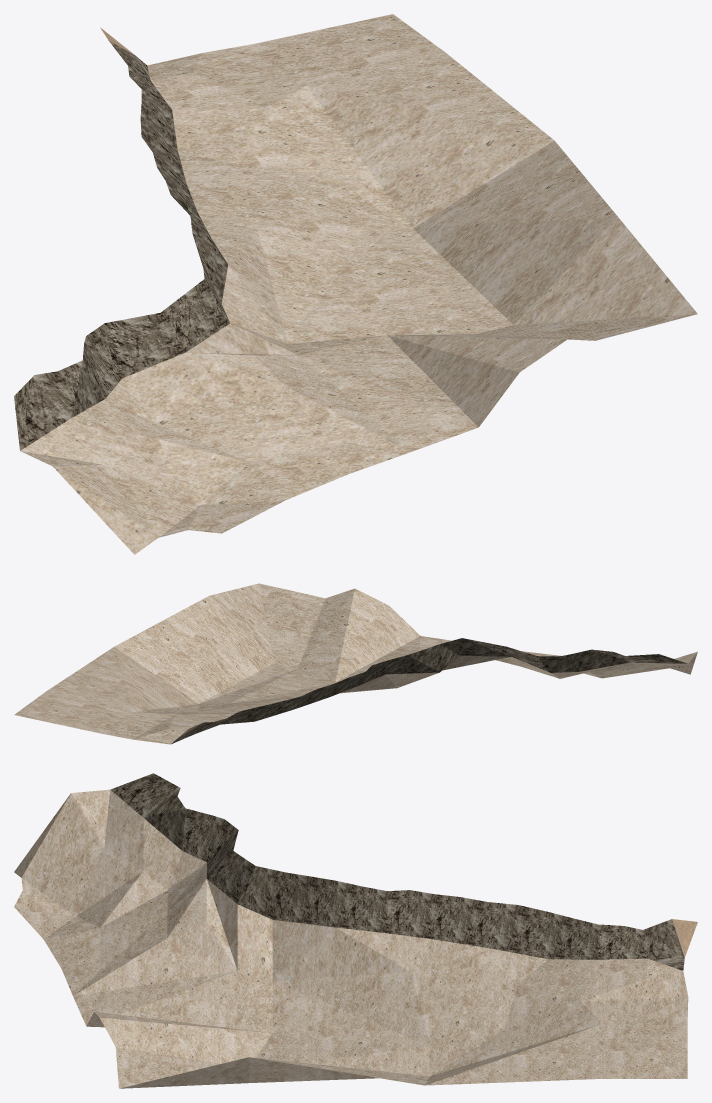
File: sbseabed_cn03.obj
3 renders of one model, top to bottom at view 1: azimuth 30°, elevation 25°; view 2: azimuth 150°, elevation 25°; view 3: azimuth 270°, elevation 25°, orthographic. The views are drawn at different scales.
Visible parts, largest first — view 1: sbseabed_CN03; view 2: sbseabed_CN03; view 3: sbseabed_CN03.
Part boxes in pixels (x1,y1,x2,y2): sbseabed_CN03: (14,14,697,554); sbseabed_CN03: (14,583,697,744); sbseabed_CN03: (14,773,697,1088).
Size of the model in its own units: 475 by 81.27 by 474.
